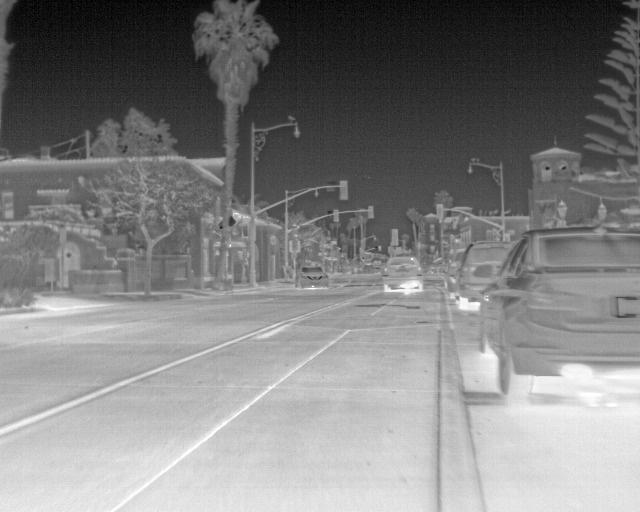bicycle: (469, 225, 637, 395), (457, 240, 512, 304), (379, 255, 425, 294), (294, 261, 329, 290), (446, 246, 466, 294)
